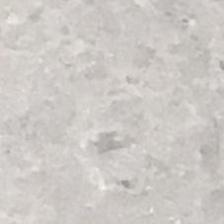Non_Crack: (20, 48, 214, 209)
